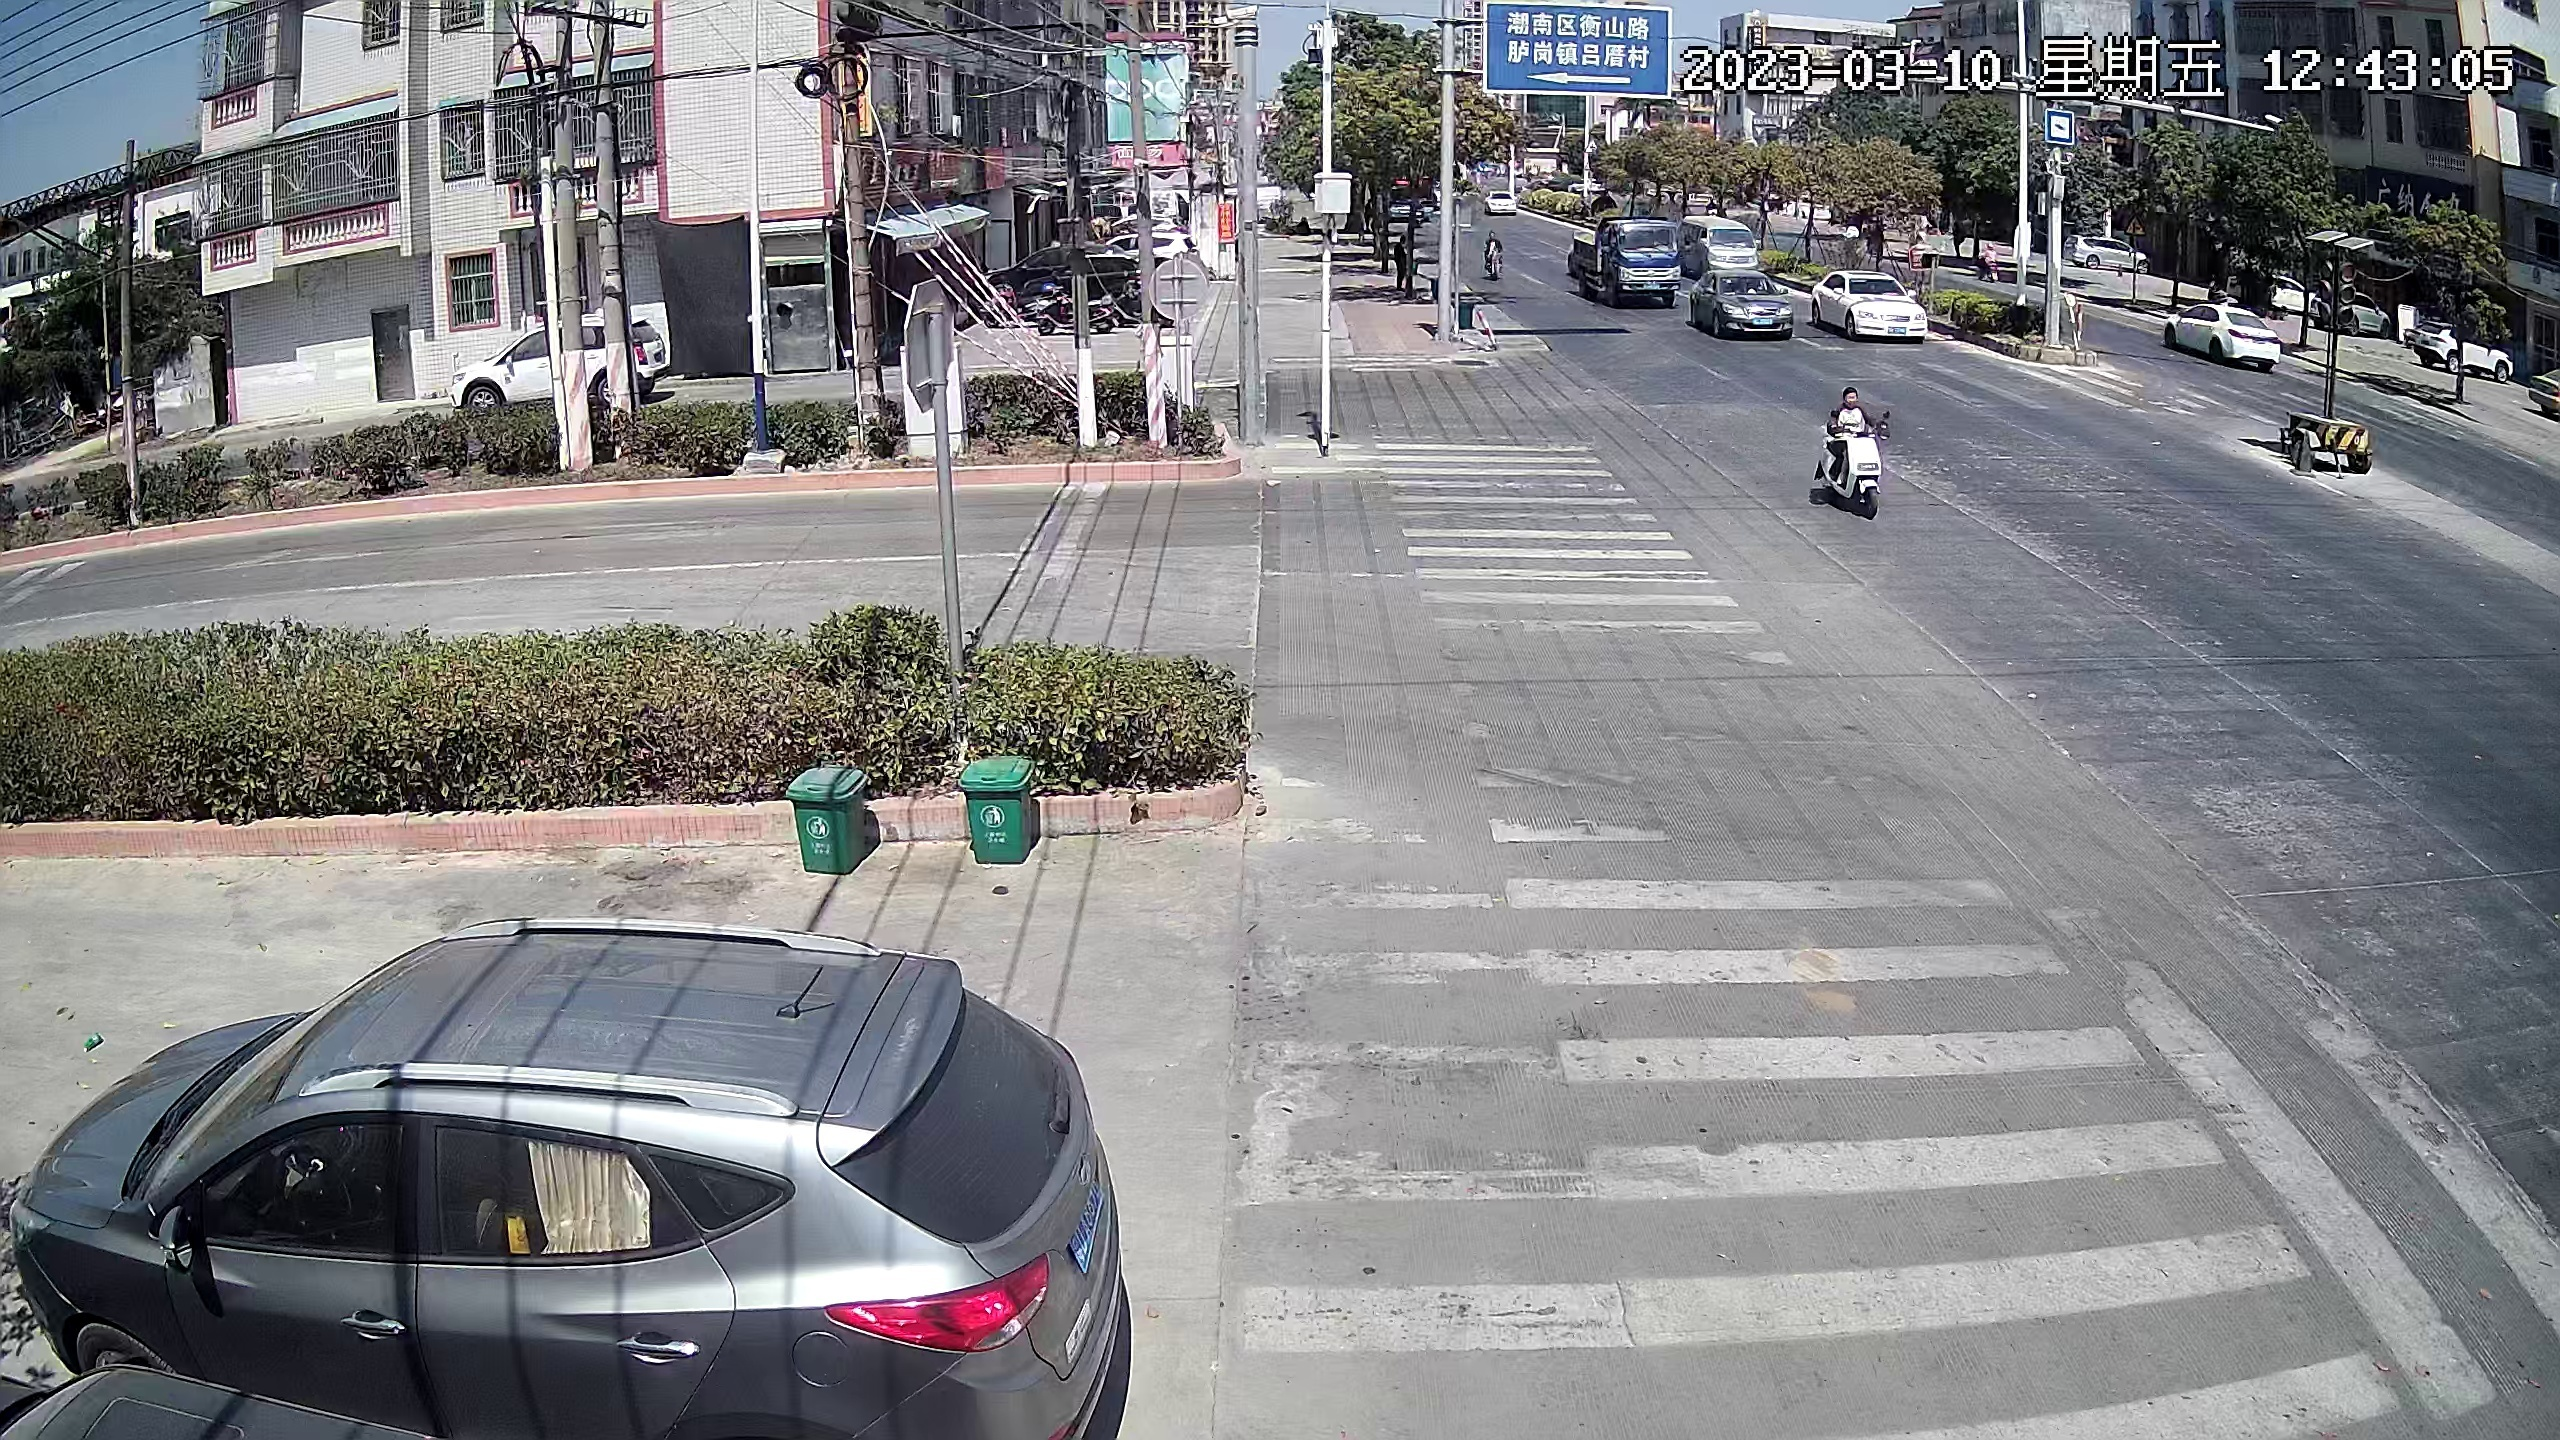head: (1837, 388, 1873, 435)
motorcycle: (1817, 379, 1894, 535), (1033, 288, 1114, 340), (1979, 234, 2009, 294), (1482, 229, 1509, 282)
sedan: (1815, 262, 1929, 347), (999, 244, 1143, 302), (2173, 299, 2280, 373), (1695, 265, 1792, 343), (2412, 320, 2510, 392), (2074, 227, 2145, 279), (2329, 285, 2388, 340), (2260, 267, 2302, 318), (1483, 185, 1518, 222)
suv: (23, 899, 1120, 1440), (454, 325, 670, 403)
truck: (1572, 213, 1682, 308), (1683, 213, 1754, 275)
